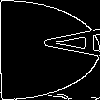A: (25, 25, 100, 59)
